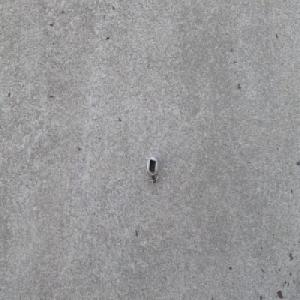MetalPart: (146, 155, 159, 184)
